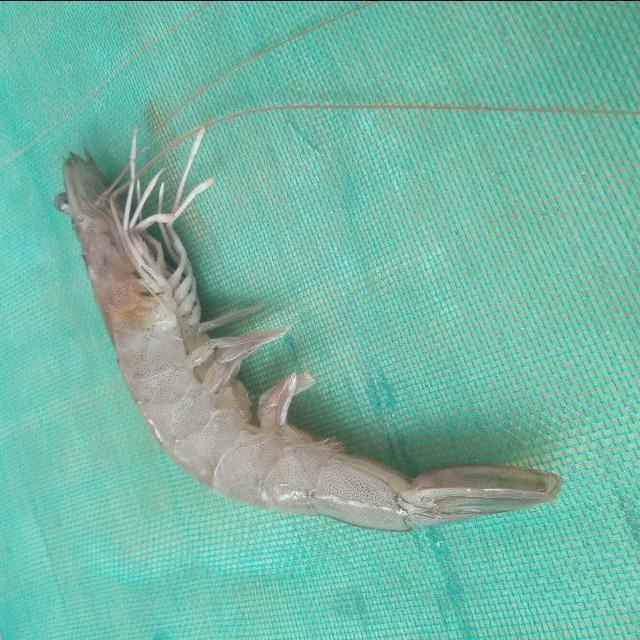shrimp: (55, 130, 561, 531)
